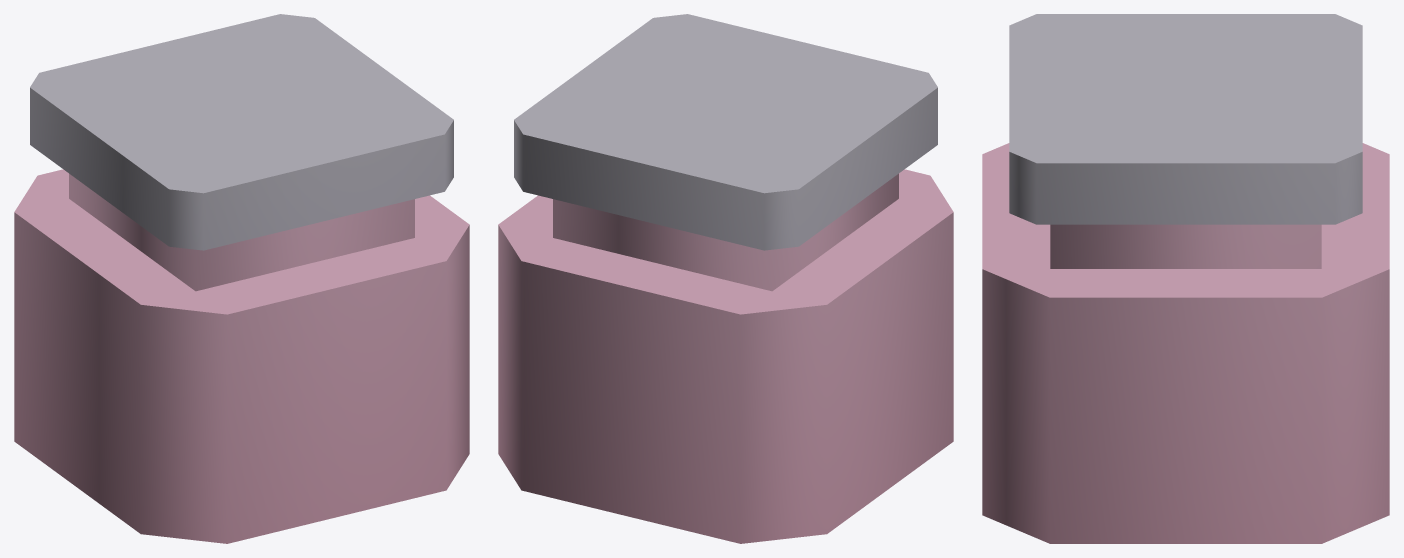
The model's file is perfume.glb.
3 renders of one model, left to right at view 1: azimuth 30°, elevation 25°; view 2: azimuth 150°, elevation 25°; view 3: azimuth 270°, elevation 25°, orthographic. The views are drawn at different scales.
Parts seen in each view (by area): view 1: perfume; view 2: perfume; view 3: perfume.
Part boxes in pixels (x1,y1,x2,y2): perfume: [14, 14, 469, 543]; perfume: [498, 14, 953, 543]; perfume: [982, 14, 1389, 543].
Size of the model in its own units: 0.15 by 0.15 by 0.15.
